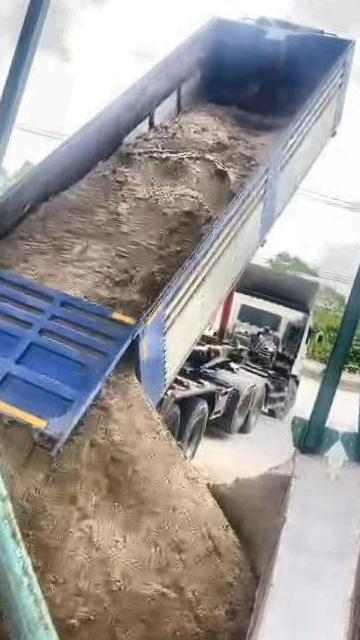sand: (0, 366, 255, 640), (0, 106, 272, 318), (211, 461, 292, 582), (0, 398, 5, 639)
